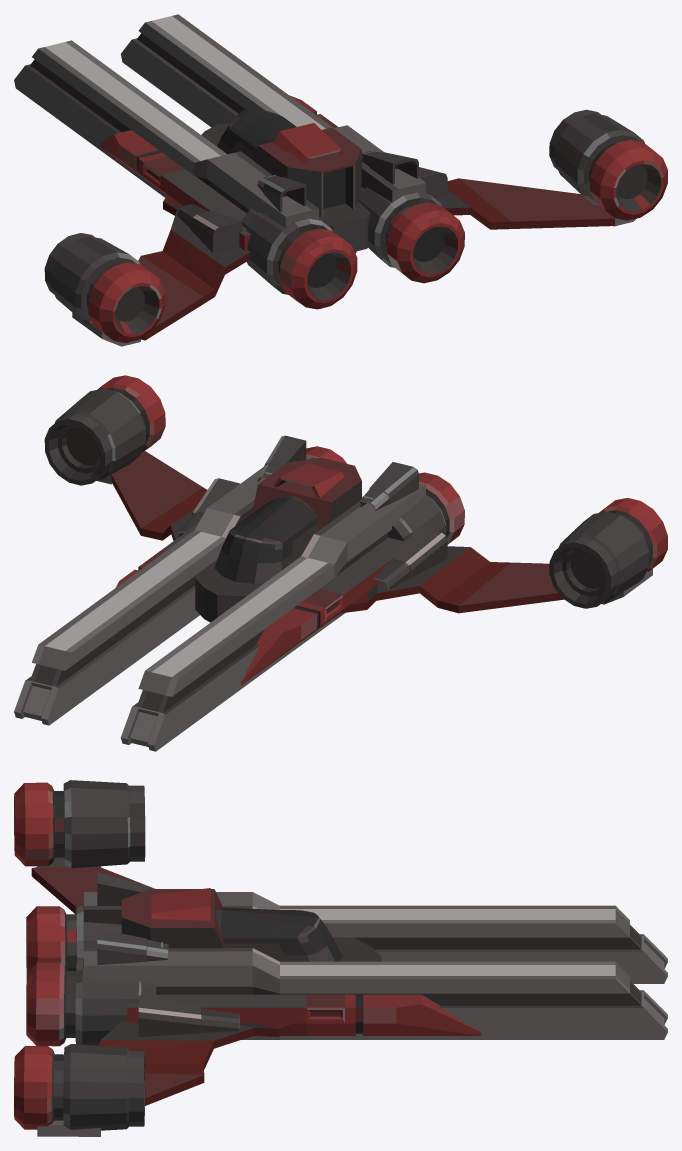
File: executioner.glb
3 renders of one model, top to bottom at view 1: azimuth 30°, elevation 25°; view 2: azimuth 150°, elevation 25°; view 3: azimuth 270°, elevation 25°, orthographic. The views are drawn at different scales.
Size of the model in its own units: 5.01 by 0.9236 by 4.6.
